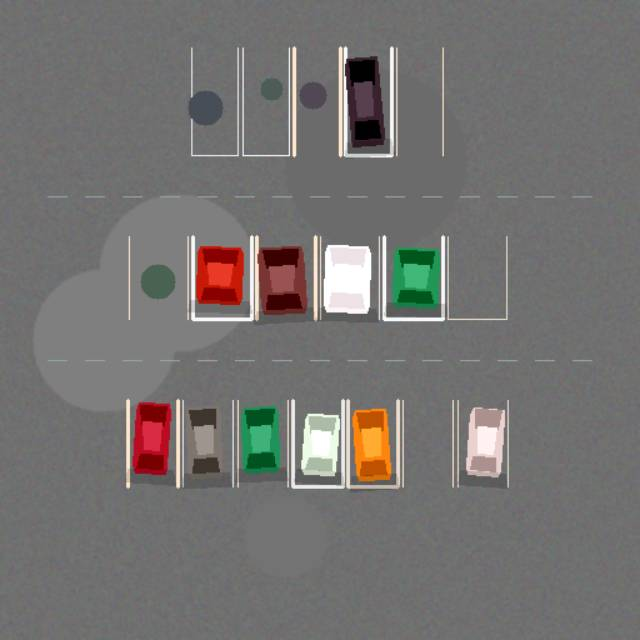space-empty: (191, 47, 238, 155), (242, 47, 289, 155), (294, 47, 340, 155), (396, 47, 442, 155), (447, 236, 506, 319), (129, 236, 187, 319), (403, 400, 453, 486)
space-occupied: (345, 47, 391, 155), (256, 236, 315, 319), (320, 236, 379, 319), (384, 236, 443, 319), (193, 236, 251, 319), (127, 400, 177, 486), (183, 400, 233, 486), (237, 400, 287, 486), (293, 400, 343, 486), (347, 400, 397, 486), (457, 400, 507, 486)
